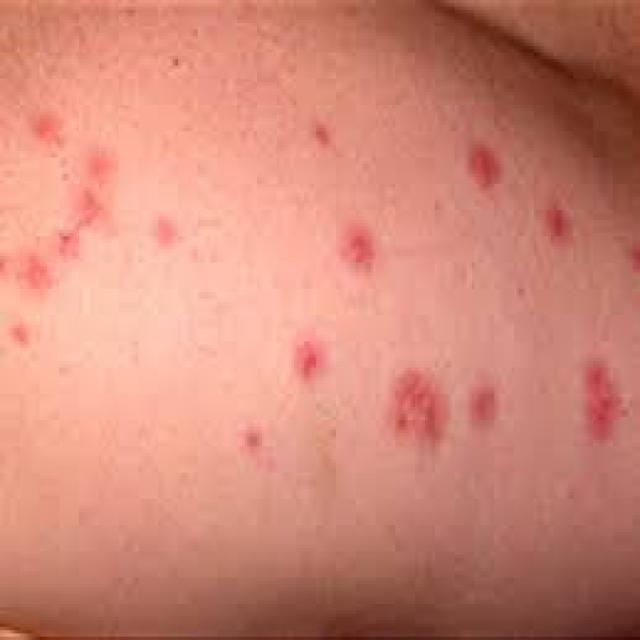tahta-kurusu: (35, 106, 233, 302), (547, 371, 640, 461), (448, 149, 521, 241), (388, 362, 454, 455), (329, 218, 387, 301), (286, 118, 344, 189), (287, 335, 353, 395), (460, 378, 508, 432), (534, 194, 566, 261)
